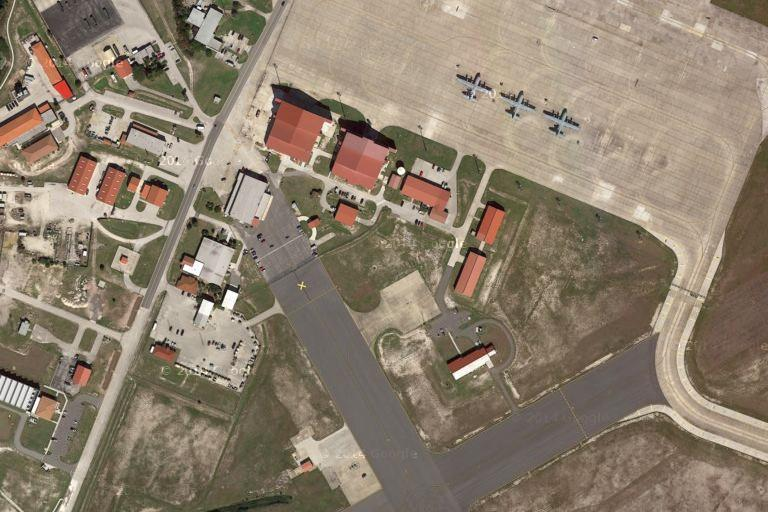C-130: (496, 84, 539, 120), (542, 103, 581, 139), (453, 68, 495, 101)
